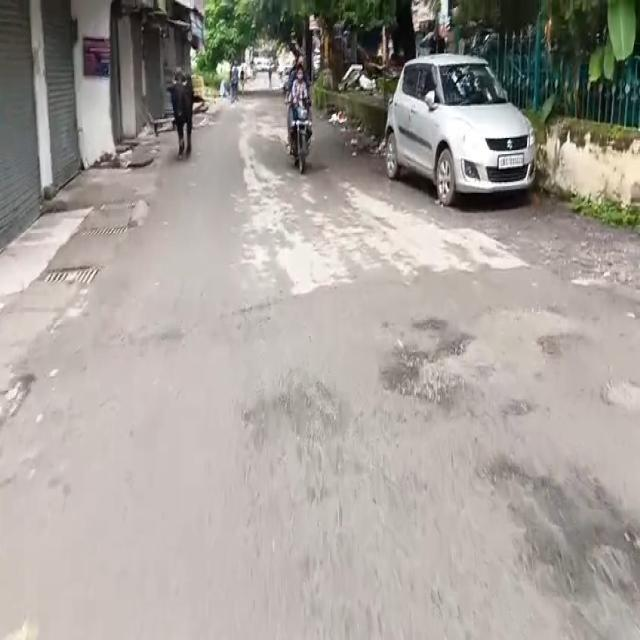road-pothole: (490, 465, 639, 617), (242, 372, 372, 510), (377, 313, 499, 413)
